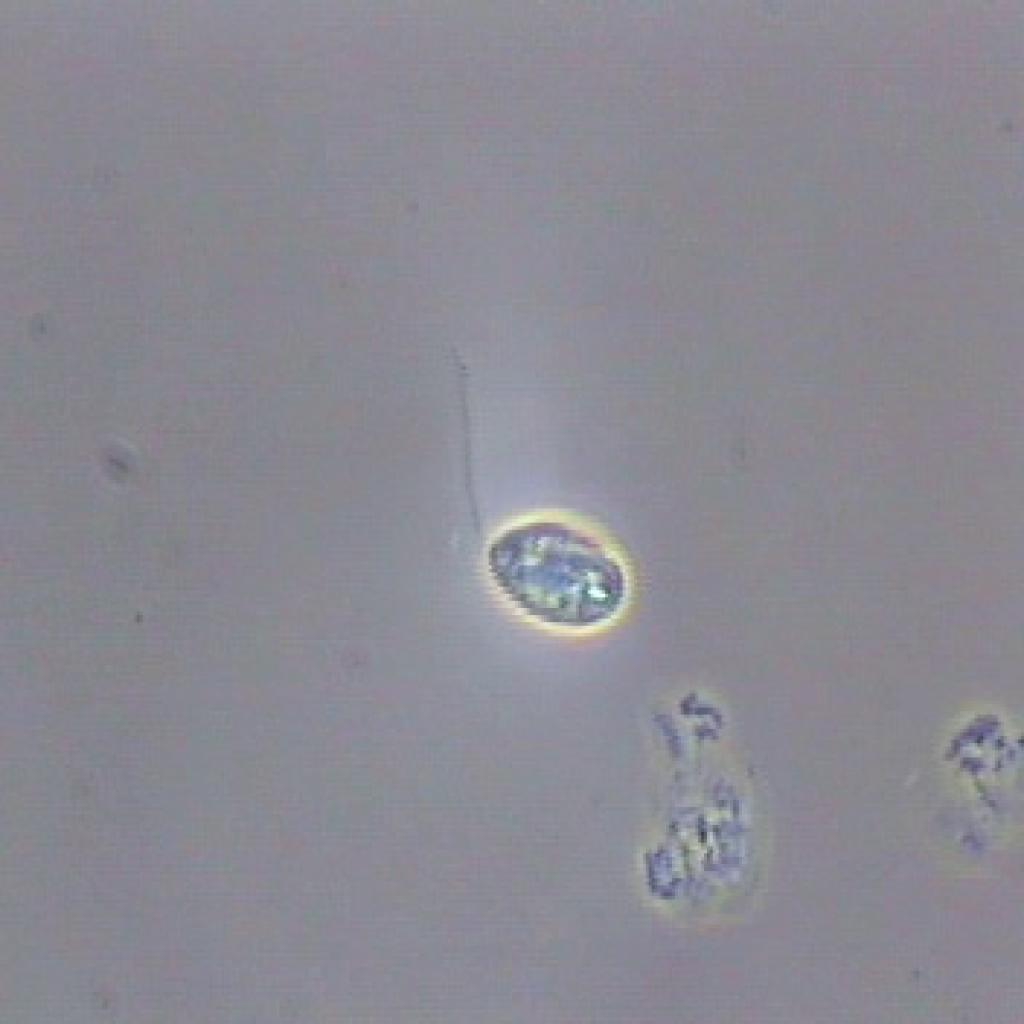Flagellates: (423, 444, 639, 654)
